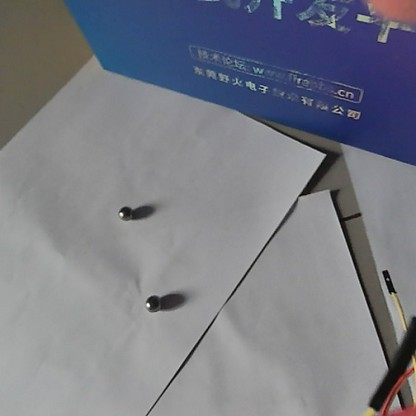ironball: (141, 292, 162, 311), (116, 204, 133, 221)
